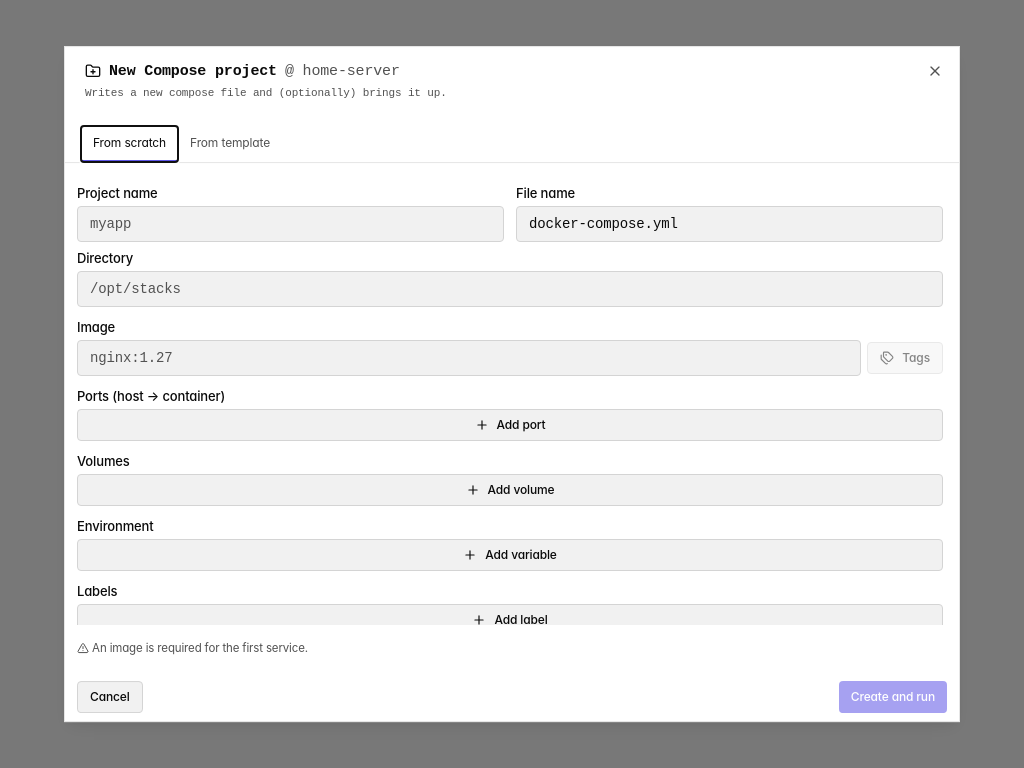
Test case: ComposeNewProjectModal › switches to the "From template" tab and lists the catalogue
Click the tab "From template". click: (230, 144)
box: 178,126 -> 282,162
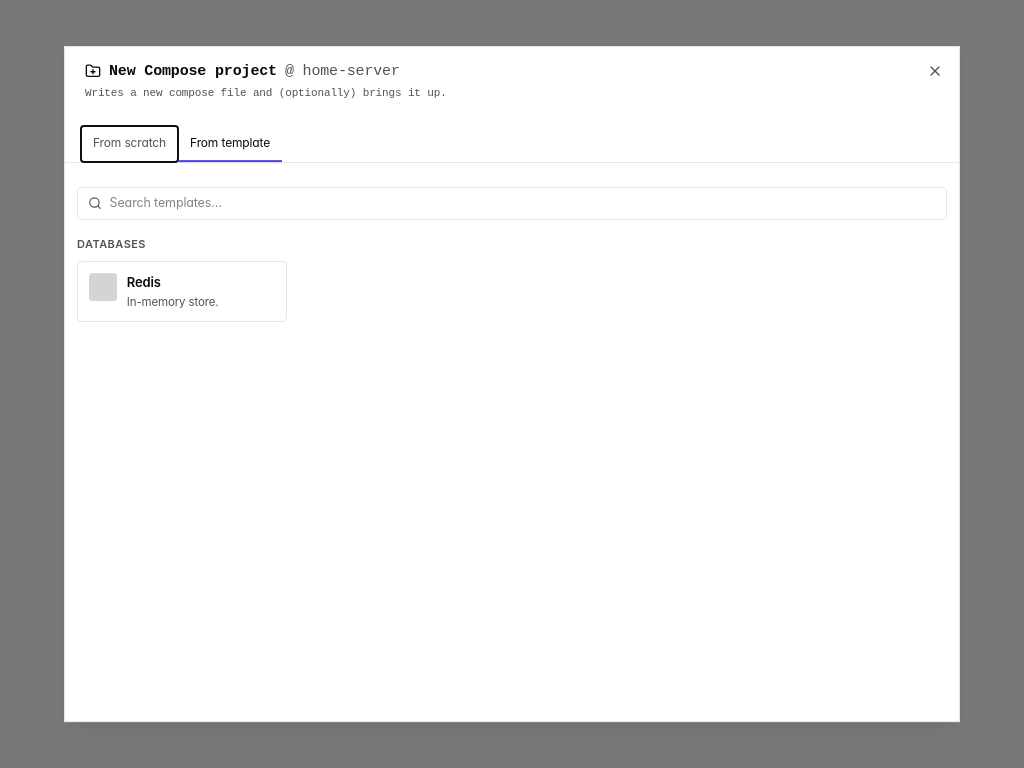
Result: the text "Redis" is shown at 127,274 -> 161,290
Result: the heading "Databases" is shown at 77,237 -> 146,251
